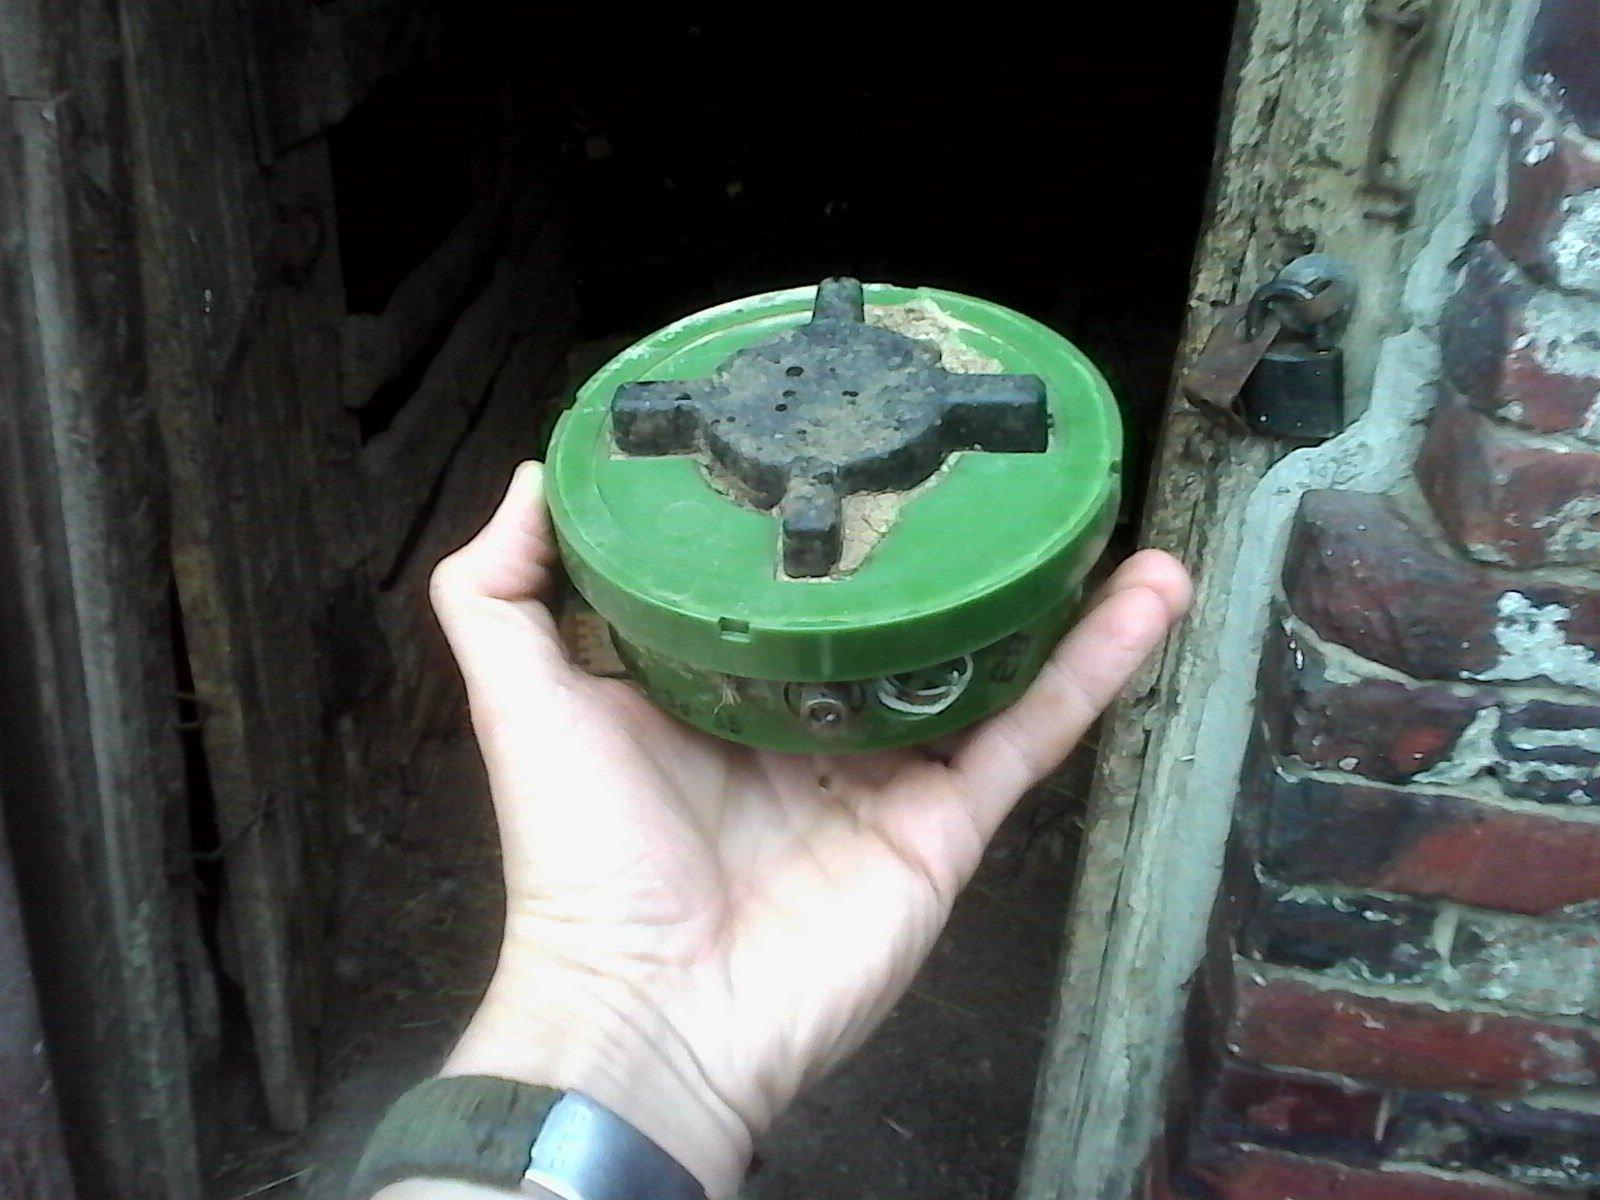pmn: (532, 270, 1130, 763)
